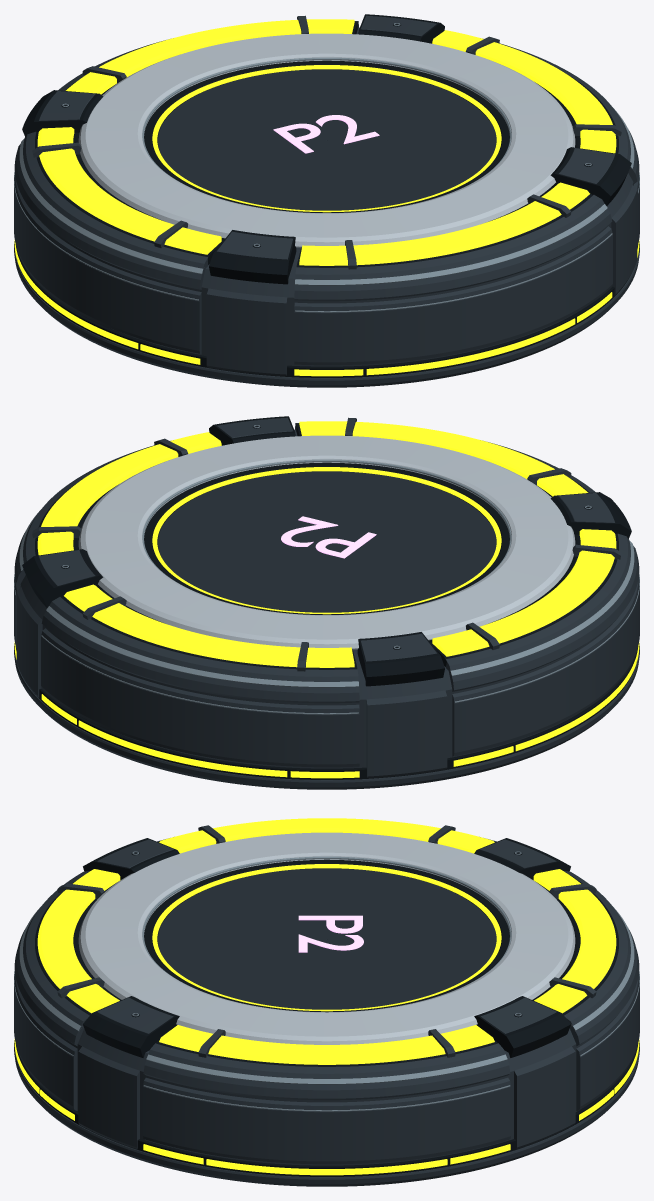
The model's file is Standard.fbx.
3 views of the same model, one above another, from view 1: azimuth 30°, elevation 25°; view 2: azimuth 150°, elevation 25°; view 3: azimuth 270°, elevation 25° (orthographic).
Parts seen in each view (by area): view 1: SM_Puck_Standard_P2_HighDetail; view 2: SM_Puck_Standard_P2_HighDetail; view 3: SM_Puck_Standard_P2_HighDetail.
Boxes of the visible parts, box(x1,y1,x2,y2) form: SM_Puck_Standard_P2_HighDetail: box(14, 14, 639, 387); SM_Puck_Standard_P2_HighDetail: box(14, 416, 639, 789); SM_Puck_Standard_P2_HighDetail: box(14, 818, 639, 1186).
Bounding box in the file's own units: 90 × 90 × 20.
